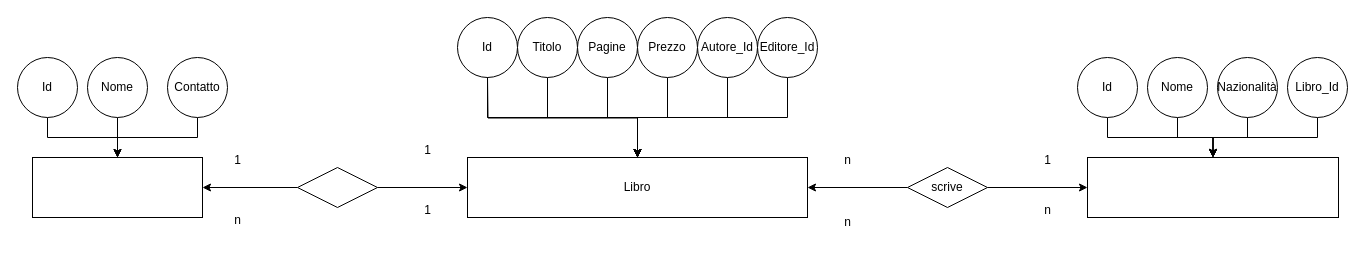
Image size: 1365x255. Some labels were removed from this diagram. Each missing label, with the box of its shape:
Autore: (1086, 156, 1338, 218)
Editore: (32, 156, 202, 218)
Publica: (296, 166, 378, 208)
